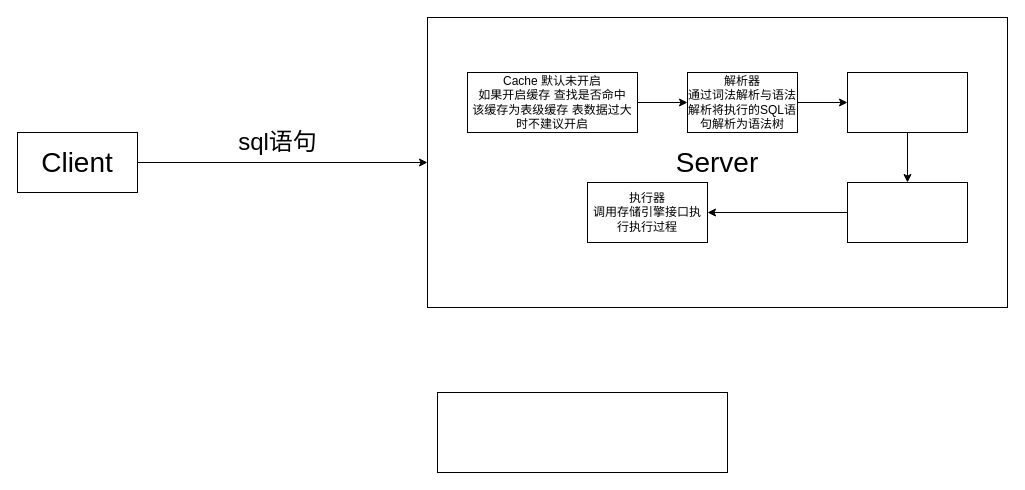
This 1025x490 diagram has some shape labels left out. Here are the shapes that lost their labels. From the top down, the centre of each, then its label:
point 907,102: 预处理器 将解析树预处理为新的解析树并进行验证
point 907,212: 优化器 对解析树进行优化并找出成本最低路径的执行过程
point 582,432: 存储引擎 对数据库数据进行管理，并相应提供API，基于SPI
